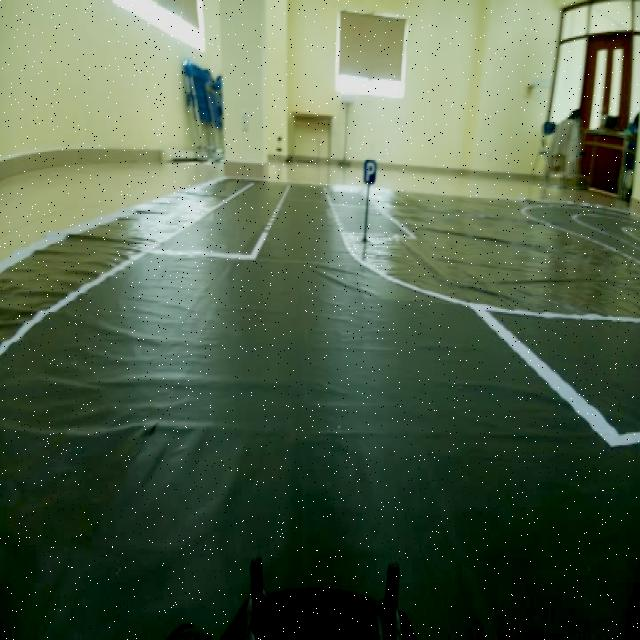parking: (364, 152, 378, 190)
